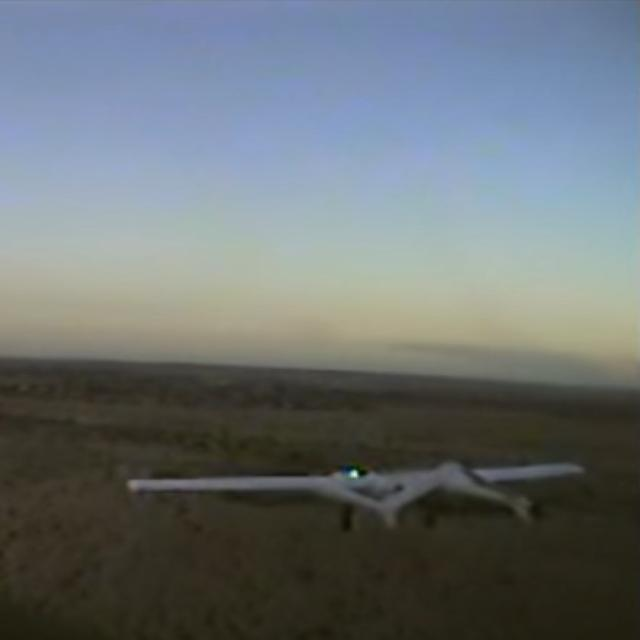iha: (128, 487, 581, 502)
